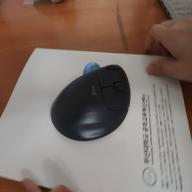mouse: (50, 60, 131, 144)
